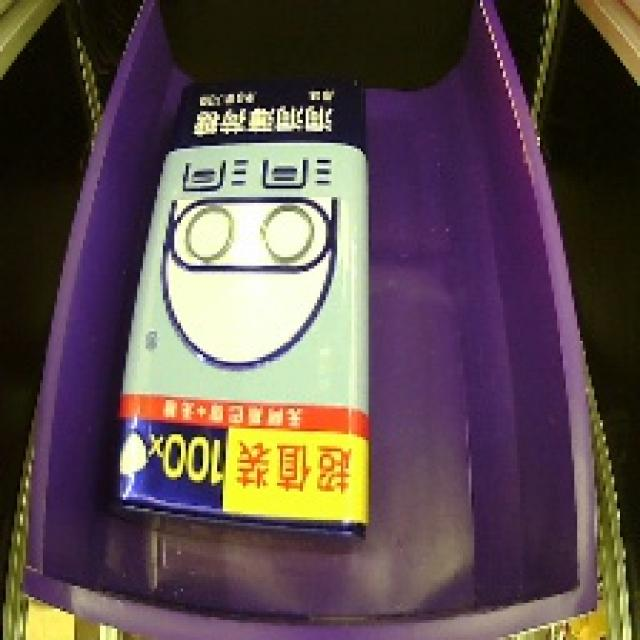metal: (90, 59, 389, 557)
